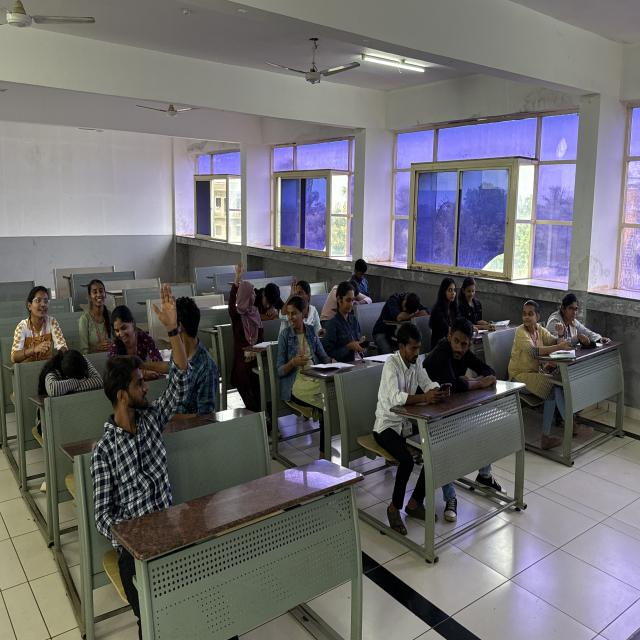Hand Rising: (83, 280, 197, 546), (225, 258, 265, 370)
Sleeping: (33, 340, 104, 408), (367, 286, 437, 352), (320, 279, 374, 322), (246, 276, 291, 323)
Using Phone: (374, 317, 457, 451), (318, 278, 376, 369)
